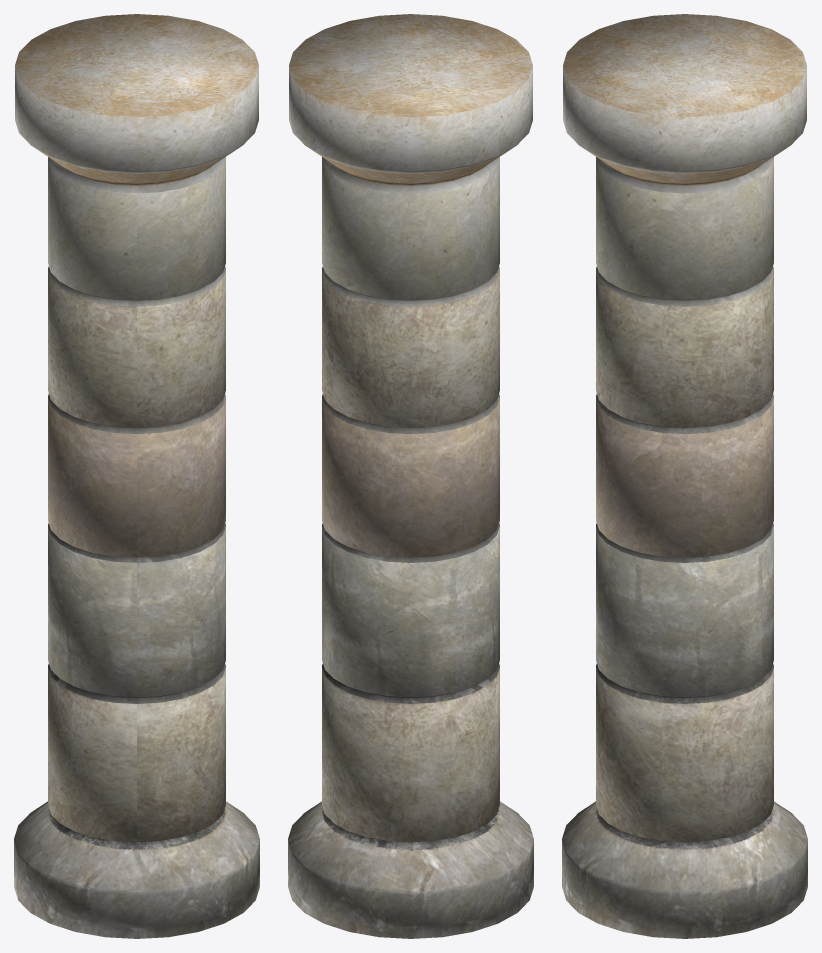
File: Columna.fbx
3 views of the same model, side by side, from view 1: azimuth 30°, elevation 25°; view 2: azimuth 150°, elevation 25°; view 3: azimuth 270°, elevation 25° (orthographic).
Visible parts, largest first — view 1: Cylinder.047; view 2: Cylinder.047; view 3: Cylinder.047.
Part boxes in pixels (x1,y1,x2,y2): Cylinder.047: (14,14,259,938); Cylinder.047: (288,14,533,938); Cylinder.047: (562,14,807,938).
Size of the model in its own units: 73.8 by 272 by 73.8.
Materials: 1 (1 with a texture image).
